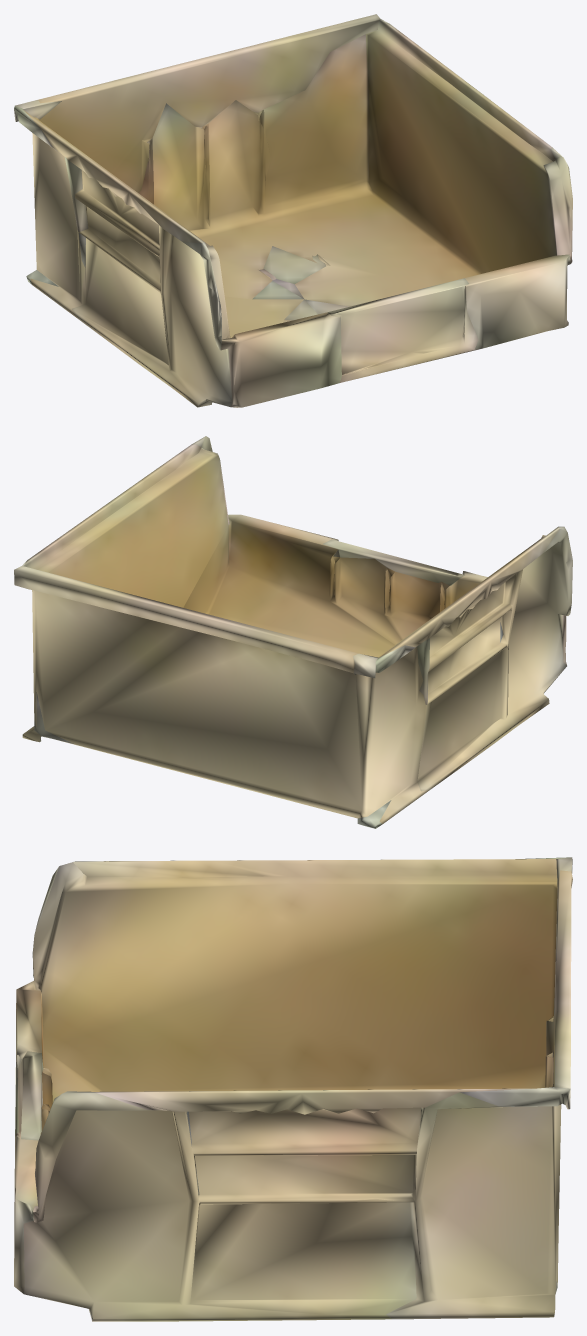
The model's file is Avengers_Thor_PLlrpYniaeB-medium.glb.
3 renders of one model, top to bottom at view 1: azimuth 30°, elevation 25°; view 2: azimuth 150°, elevation 25°; view 3: azimuth 270°, elevation 25°, orthographic. The views are drawn at different scales.
Parts seen in each view (by area): view 1: Avengers_Thor_PLlrpYniaeB; view 2: Avengers_Thor_PLlrpYniaeB; view 3: Avengers_Thor_PLlrpYniaeB.
Boxes of the visible parts, box(x1,y1,x2,y2) form: Avengers_Thor_PLlrpYniaeB: box(14, 14, 572, 407); Avengers_Thor_PLlrpYniaeB: box(14, 436, 572, 828); Avengers_Thor_PLlrpYniaeB: box(14, 857, 572, 1321).
Bounding box in the file's own units: 0.283 × 0.1321 × 0.2806.
1 material, 1 textured.
